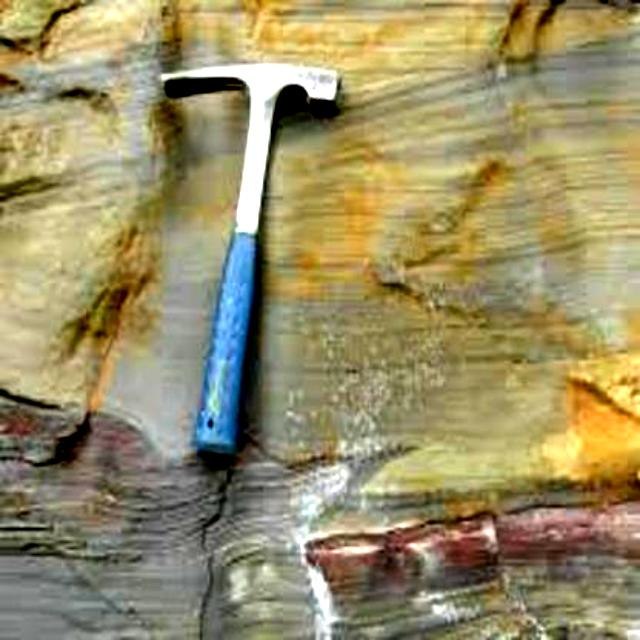hammer: (148, 44, 344, 496)
